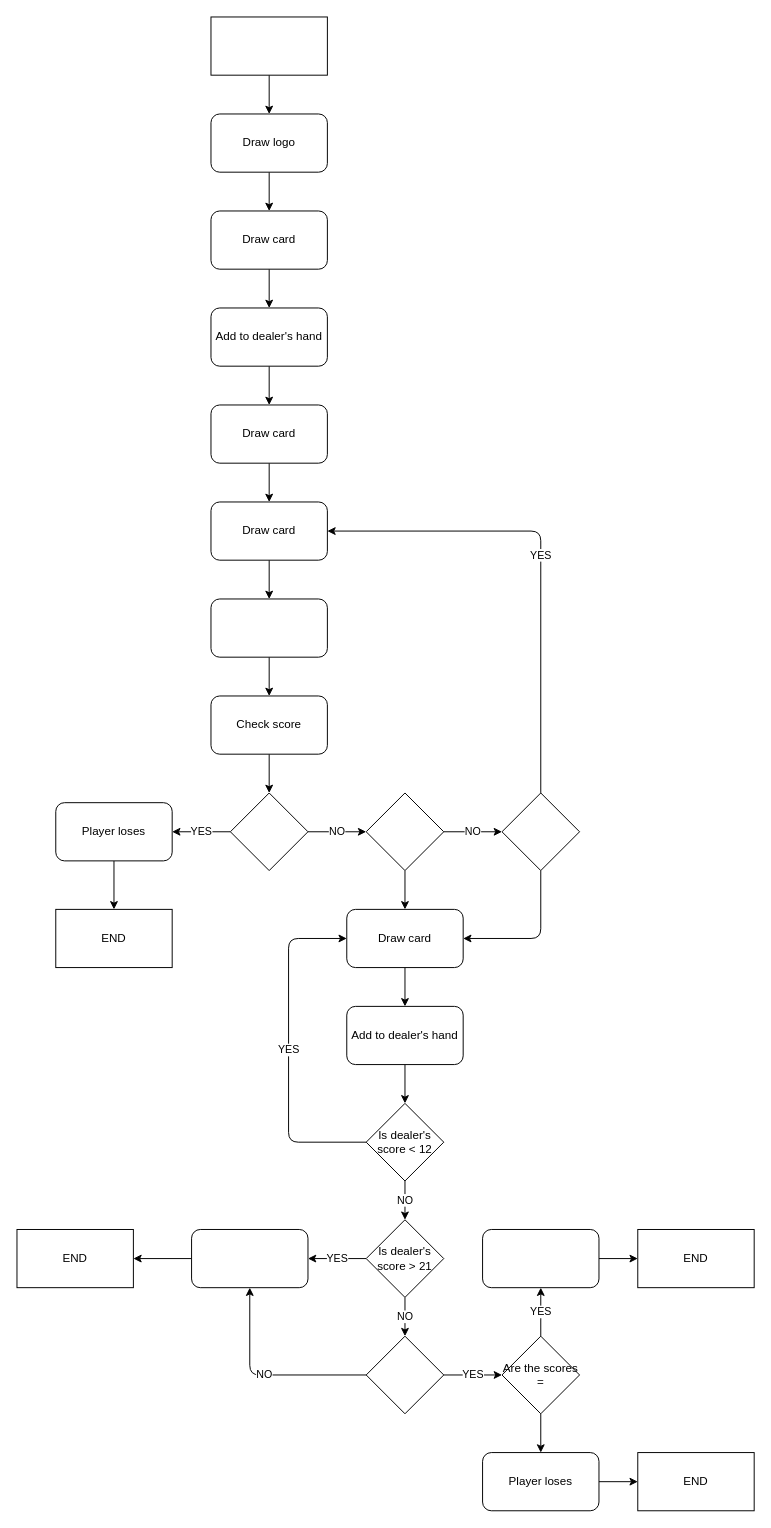
This 771x1528 diagram has some shape labels left out. Here are the shapes that lost their labels. From the top down, the centre of each, then its label:
At point 268,45: "START".
At point 268,627: "Add to player's hand".
At point 268,831: "Is score > 21".
At point 404,831: "Is score = 21".
At point 540,831: "Do you want to draw again?".
At point 249,1258: "Player wins".
At point 540,1258: "Draw".
At point 404,1374: "Is dealer's score >= player's score".
